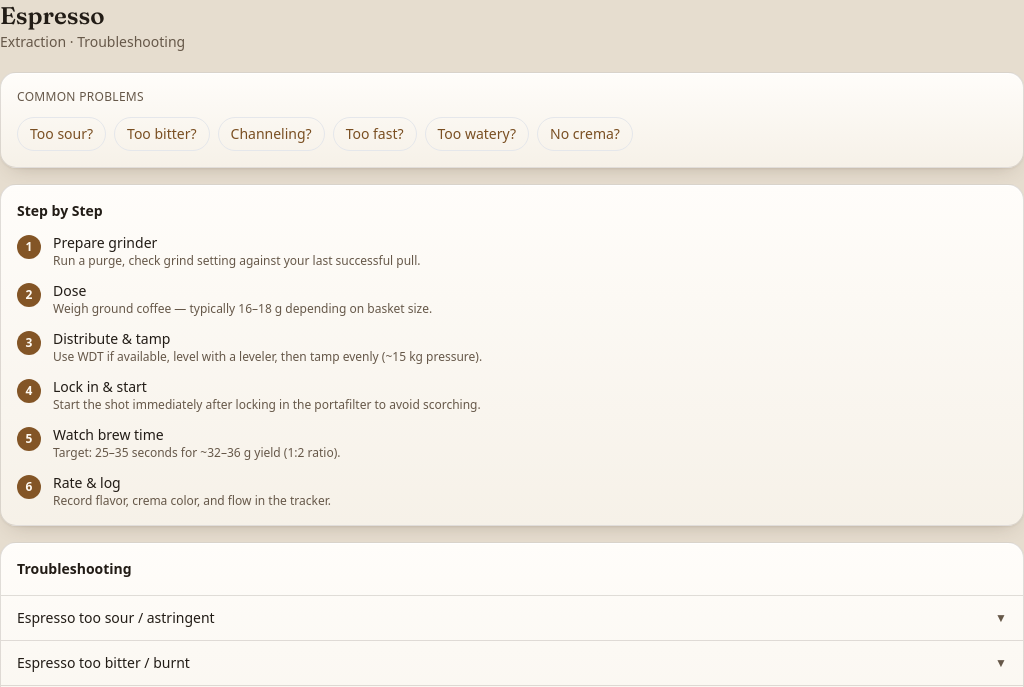
closes open accordion item on second click
Click the text "Espresso too sour / astringent".
click(116, 618)  # box [17, 608, 215, 628]
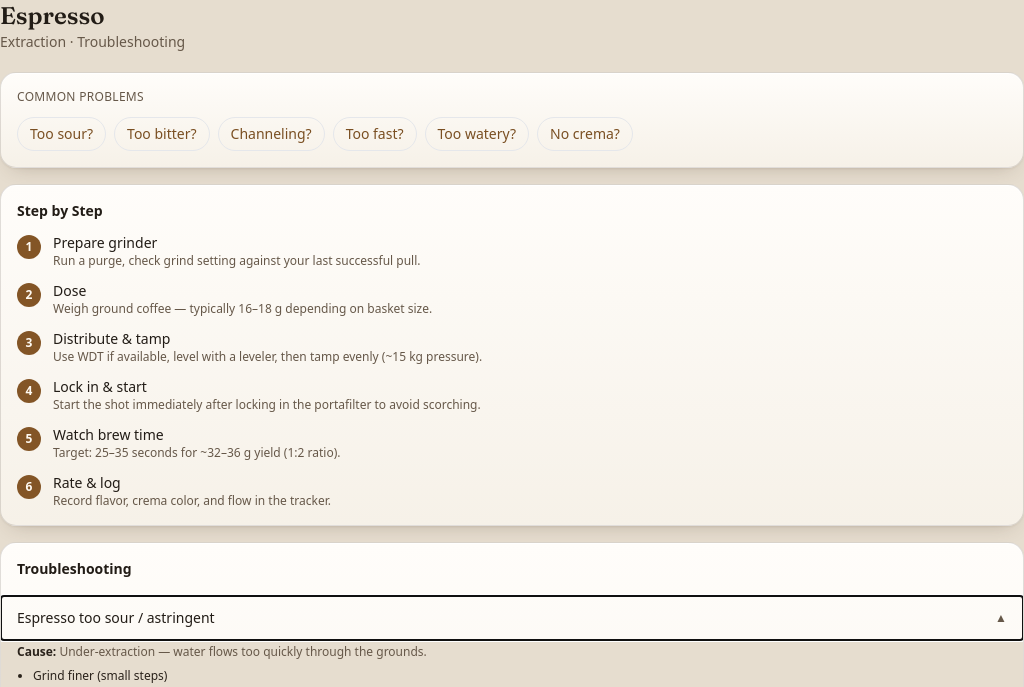
Click the text "Espresso too sour / astringent".
click(116, 618)  # box [17, 608, 215, 628]
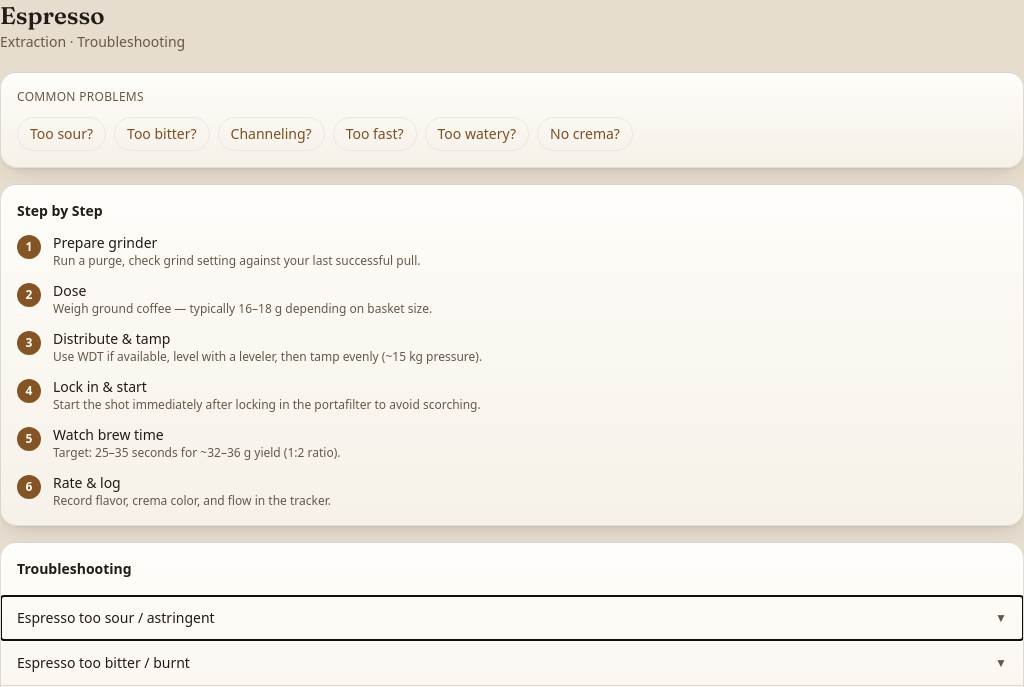
Check: the text "Under-extraction" is gone
